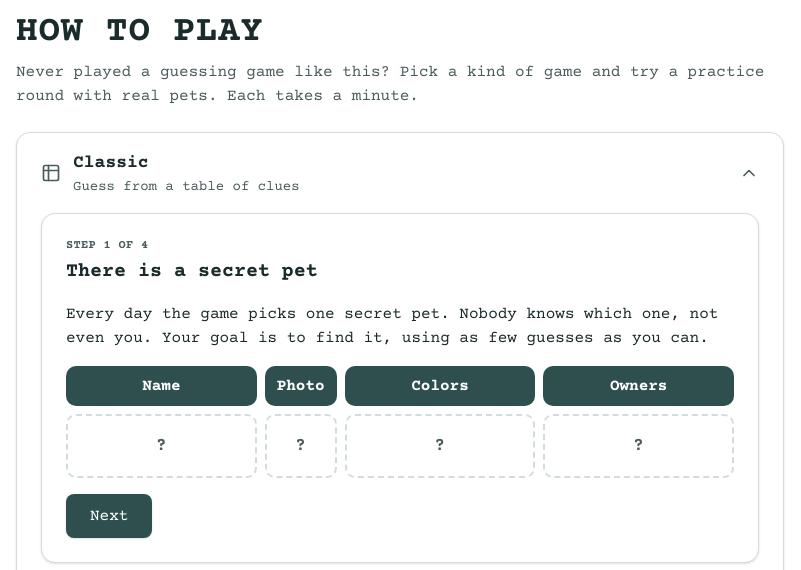
Scenario: How to play practice game › a lucky first guess wins at once
Click the button "Next" at (109, 516), box [66,494,152,538]
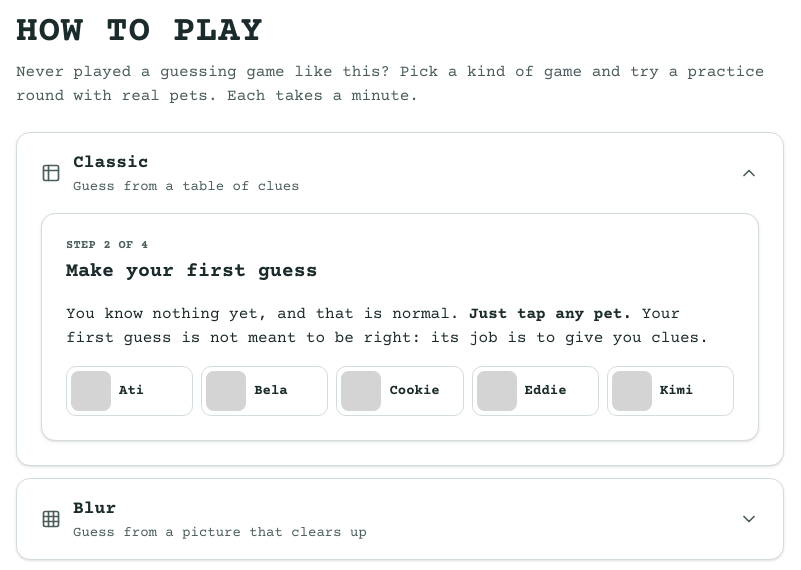
Click the button "Ati" at (130, 391), box [66,366,193,416]
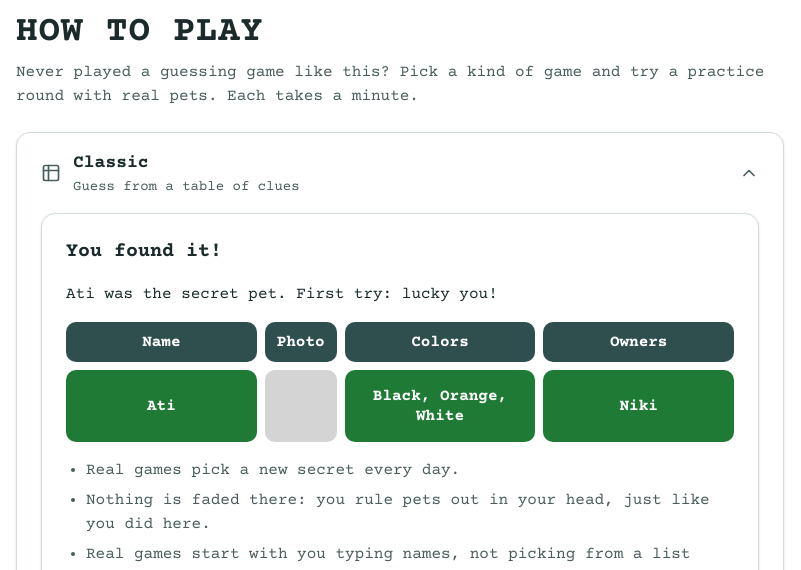
Expected: the text "Ati was the secret pet. First try: lucky you!" is shown, [66,285,498,303]
